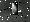person: (14, 3, 23, 16)
